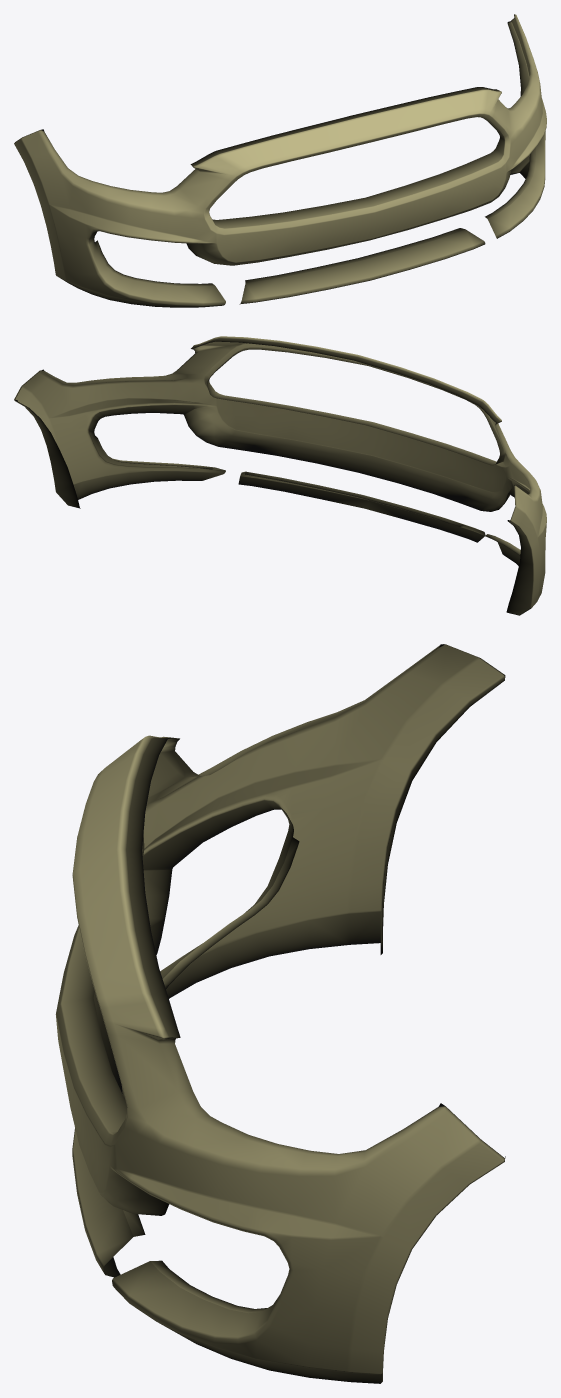
Rendered from Mustang16_FB_03_Duco.fbx.
The picture shows the model from 3 angles, top to bottom: view 1: azimuth 30°, elevation 25°; view 2: azimuth 150°, elevation 25°; view 3: azimuth 270°, elevation 25°; orthographic projection. The views are drawn at different scales.
Parts seen in each view (by area): view 1: Mustang16_FB_03_Duco; view 2: Mustang16_FB_03_Duco; view 3: Mustang16_FB_03_Duco.
Part boxes in pixels (x1,y1,x2,y2): Mustang16_FB_03_Duco: (14, 14, 546, 307); Mustang16_FB_03_Duco: (14, 336, 546, 615); Mustang16_FB_03_Duco: (55, 644, 505, 1383).
Bounding box in the file's own units: 184 × 55.82 × 71.96.
